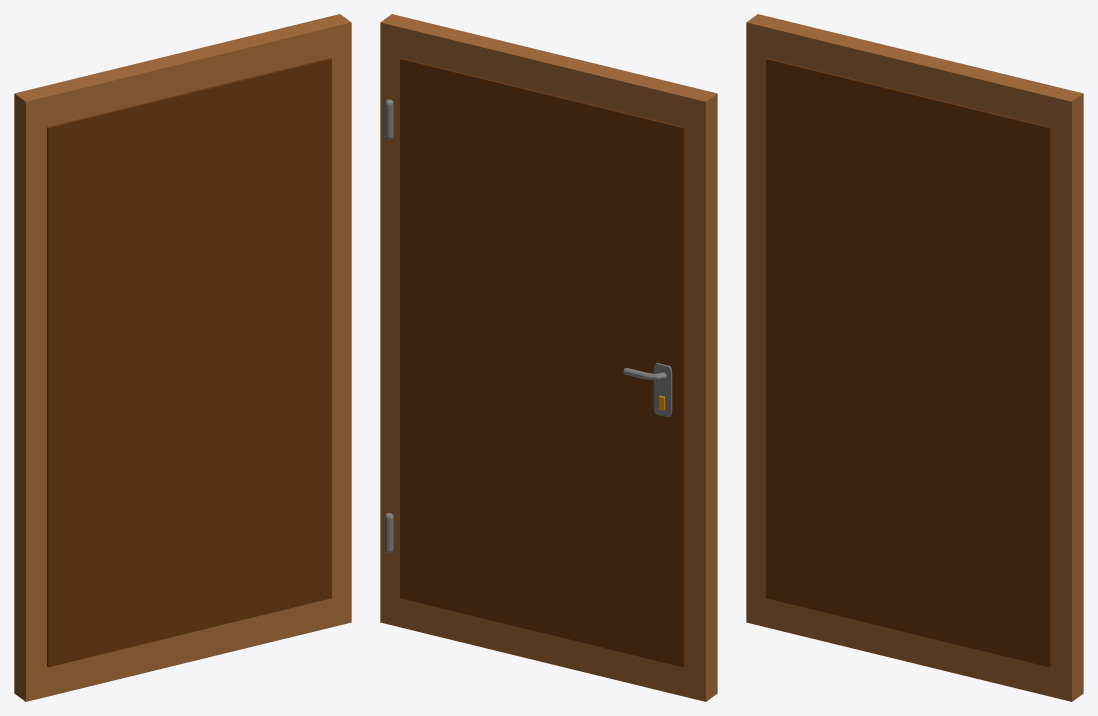
Rendered from Door.fbx.
3 renders of one model, left to right at view 1: azimuth 30°, elevation 25°; view 2: azimuth 150°, elevation 25°; view 3: azimuth 330°, elevation 25°, orthographic.
Visible parts, largest first — view 1: Door; view 2: Door; view 3: Door.
Boxes of the visible parts, x1=… form: Door: x1=14, y1=14, x2=351, y2=701; Door: x1=380, y1=14, x2=717, y2=701; Door: x1=746, y1=14, x2=1083, y2=701.
Size of the model in its own units: 8.1 by 14.26 by 0.9512.
